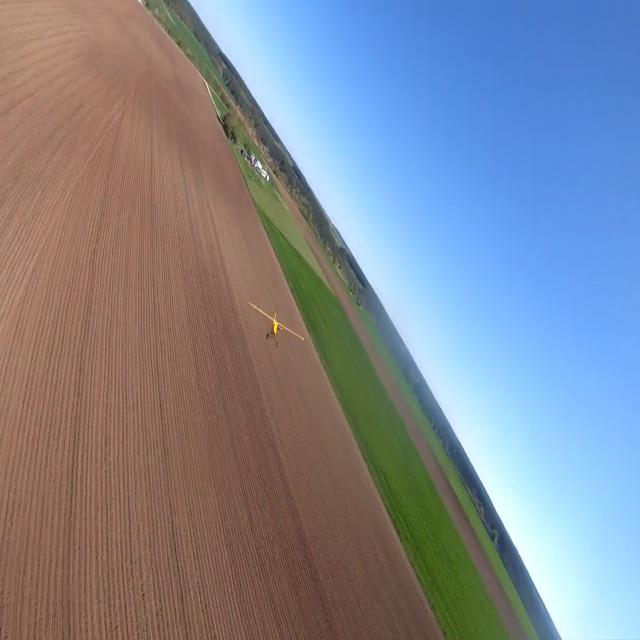iha: (249, 300, 305, 343)
